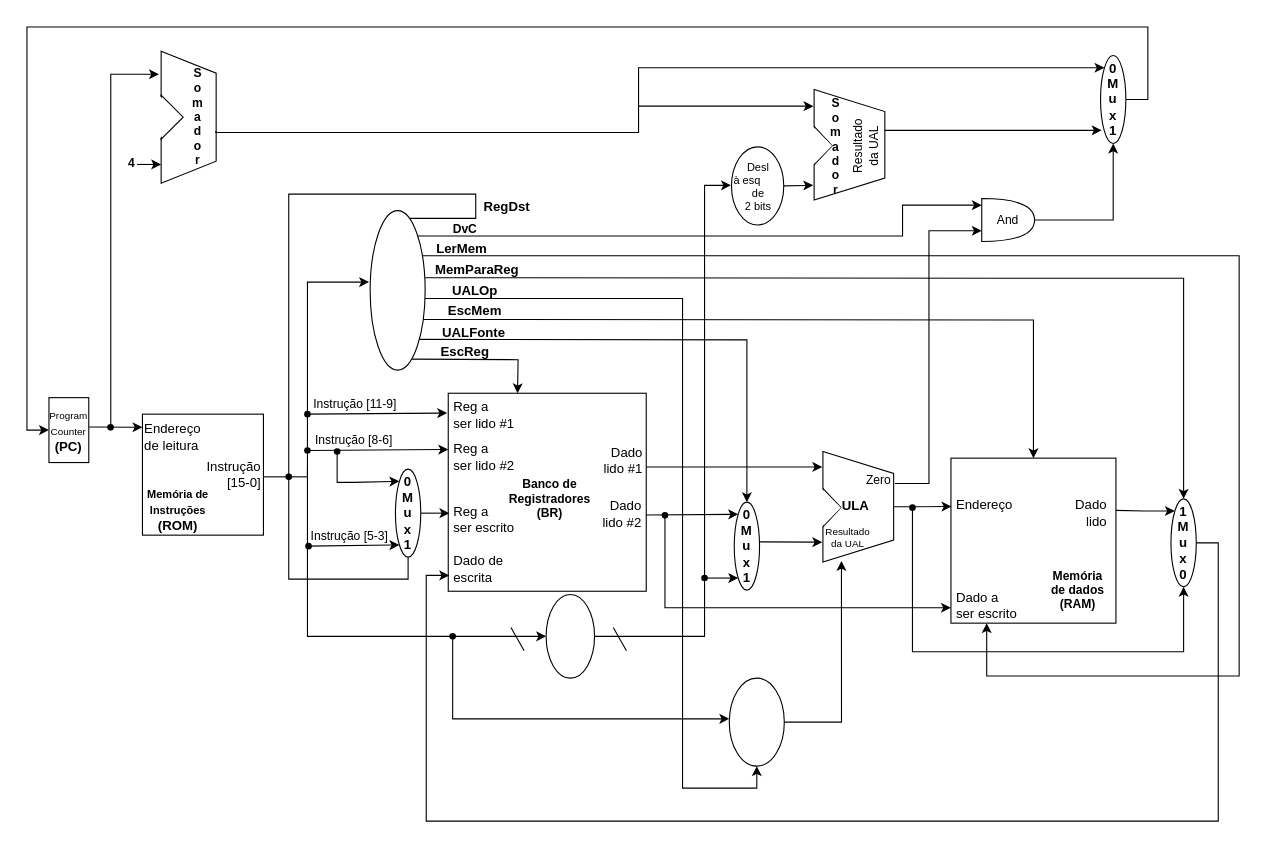
This 1267x849 diagram has some shape labels left out. Here are the shapes that lost their labels. From the top down, the centre of each, then its label:
(397,290): Unidade de Controle (UC)
(570,635): Exten- são de sinal
(756,721): Opera- ção da UAL
